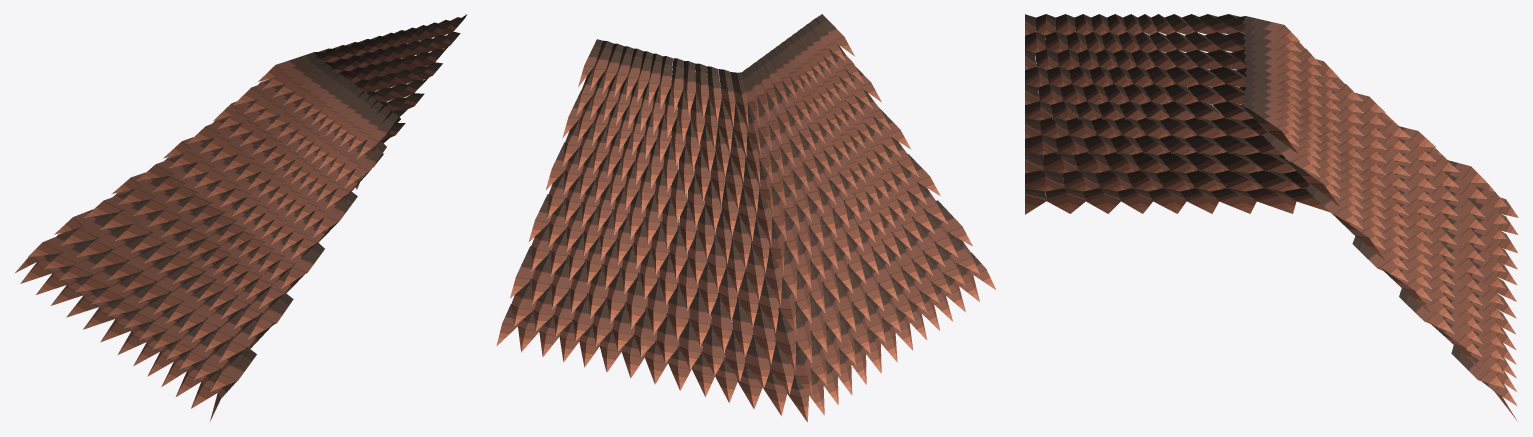
The model's file is Square_Roof_Corner_LOD1.fbx.
The picture shows the model from 3 angles, left to right: view 1: azimuth 30°, elevation 25°; view 2: azimuth 150°, elevation 25°; view 3: azimuth 270°, elevation 25°; orthographic projection. The views are drawn at different scales.
Visible parts, largest first — view 1: polySurface5477; view 2: polySurface5477; view 3: polySurface5477.
Boxes of the visible parts, x1,y1,x2,y2 form: polySurface5477: (15, 14, 466, 422); polySurface5477: (496, 14, 996, 422); polySurface5477: (1025, 14, 1518, 421).
Bounding box in the file's own units: 463 × 327 × 463.
